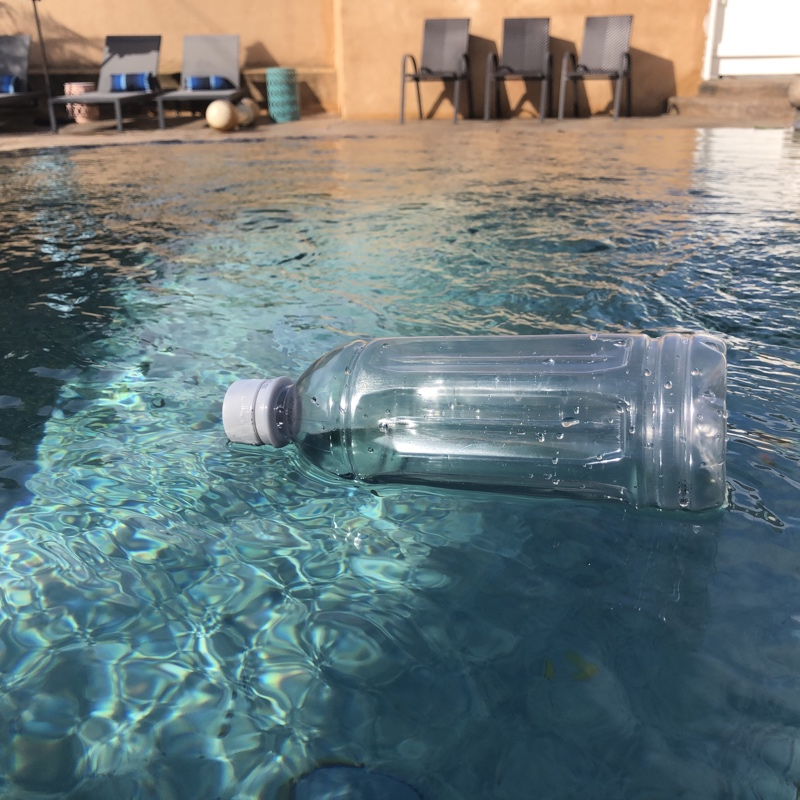Plastic Bottle: (212, 324, 744, 521)
